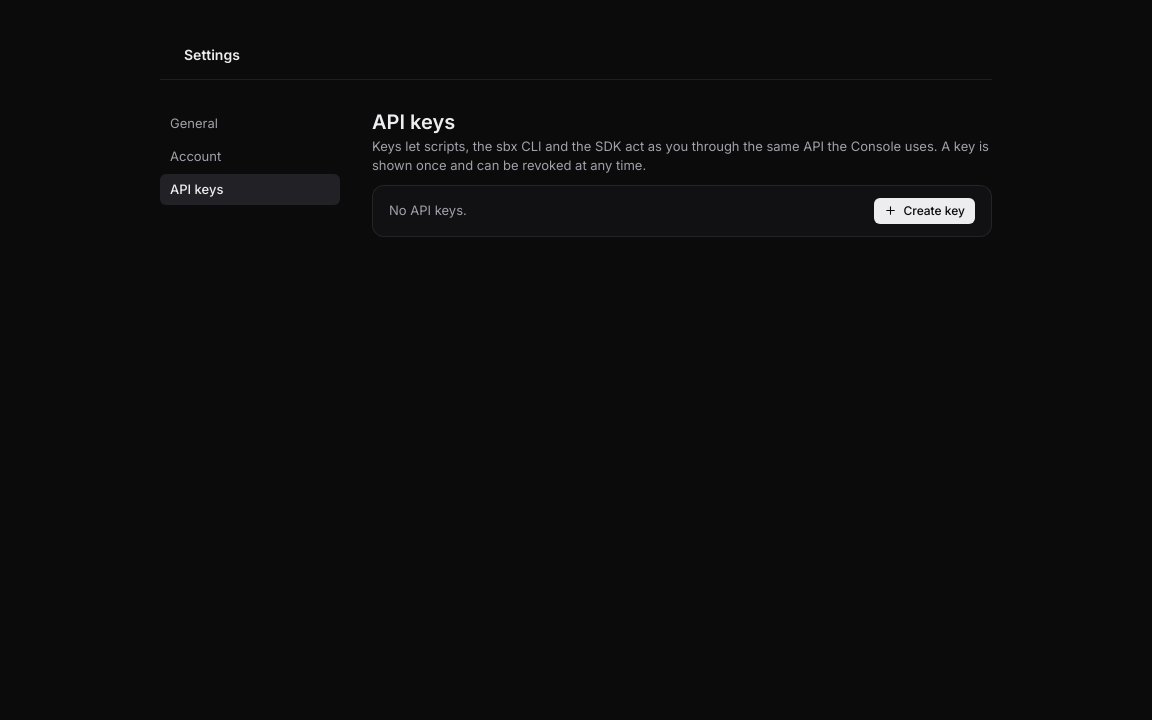
Scenario: API key scopes and retry-safe issuance (#230) › says a key may exist when the dialog is closed with an unknown outcome
The image size is (1152, 720).
Click the button "Create key". click: (925, 211)
box: [874, 198, 975, 224]
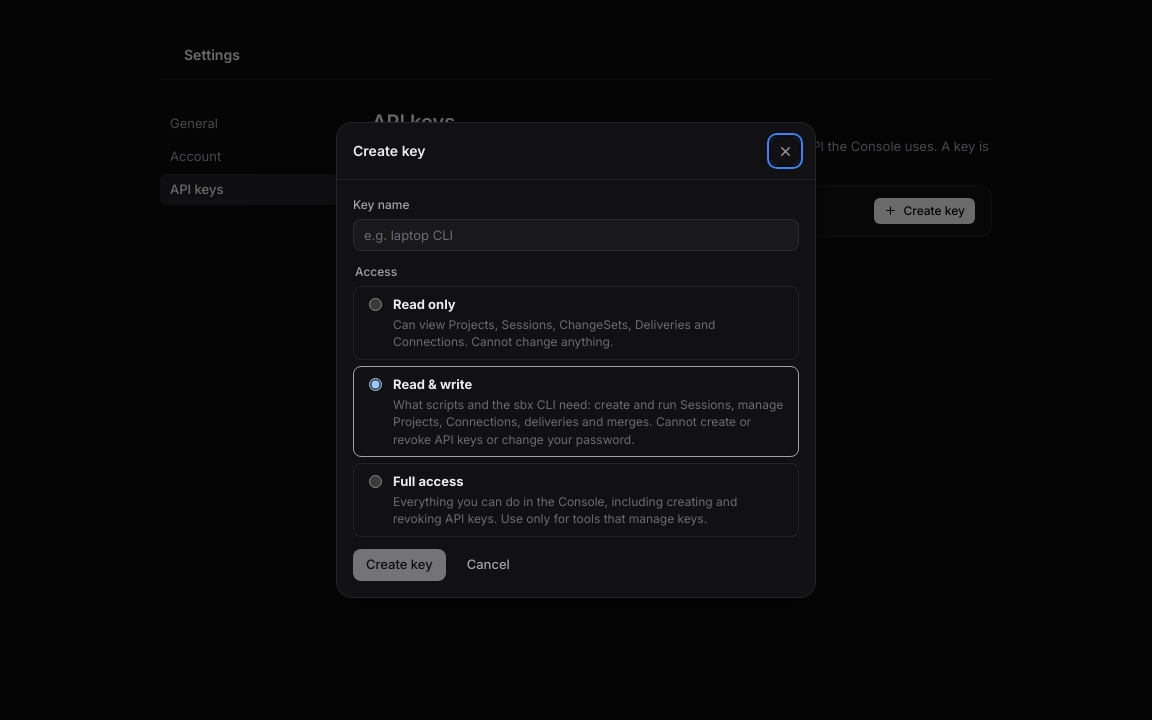
Type "nightly" into the field labelled "Key name". click: (576, 235)
box: [353, 219, 799, 251]
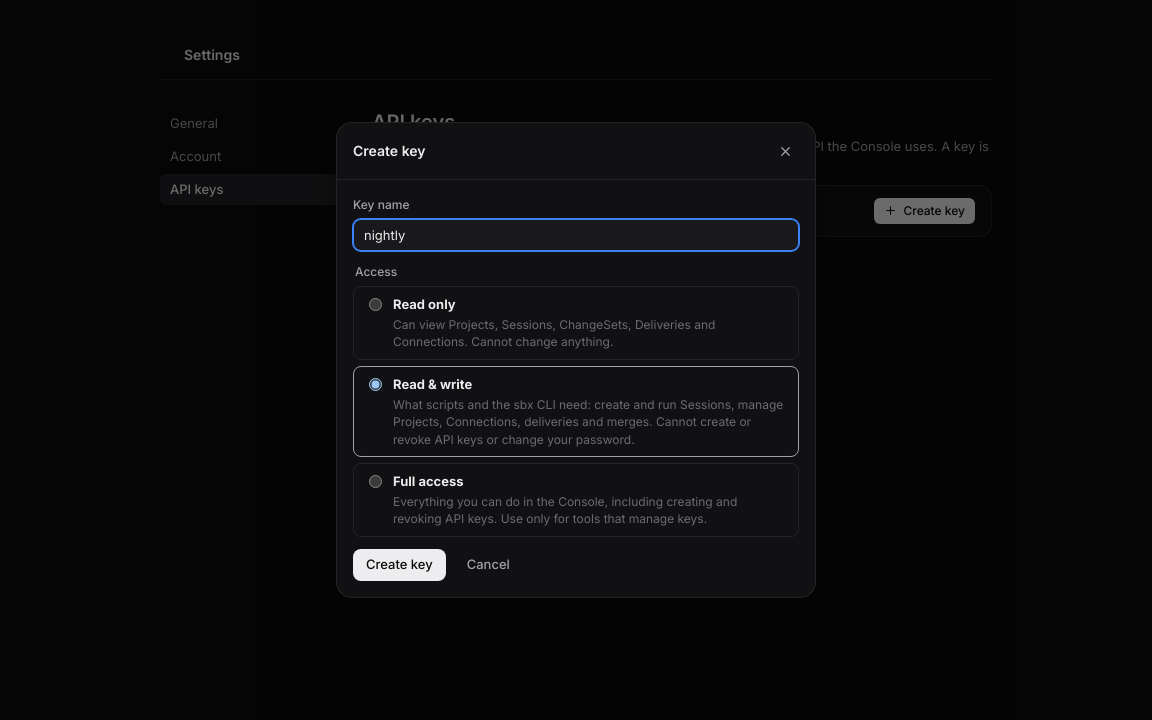
Click the button "Create key". click: (399, 564)
box: [353, 548, 446, 580]
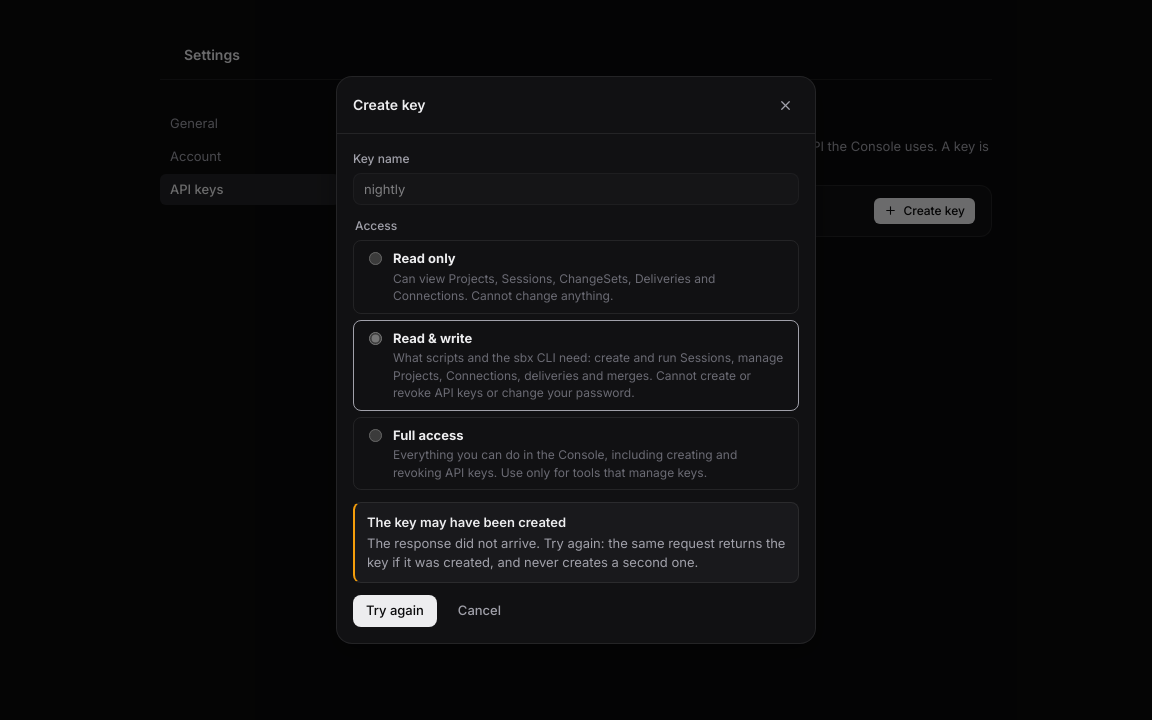
Result: the text "The key may have been created" is shown at [367, 514, 566, 530]
Click the button "Cancel". click: (479, 611)
box: [445, 595, 514, 627]
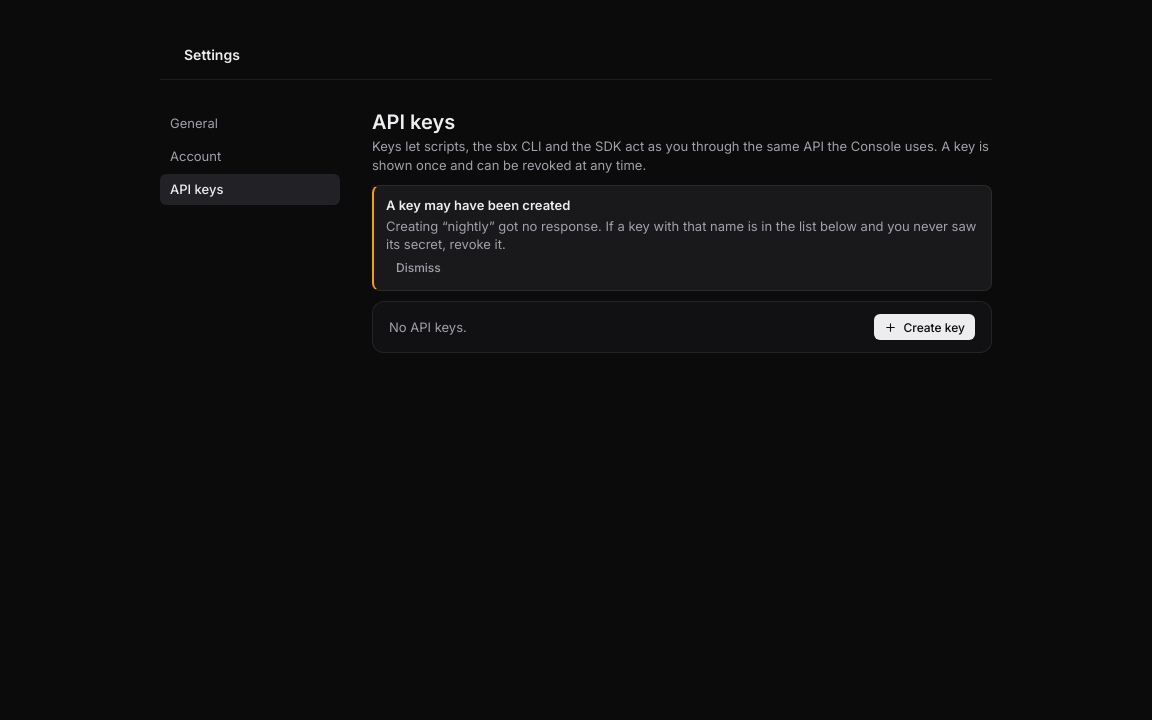
Result: the text "Creating “nightly” got no response" is shown at [386, 218, 976, 252]
